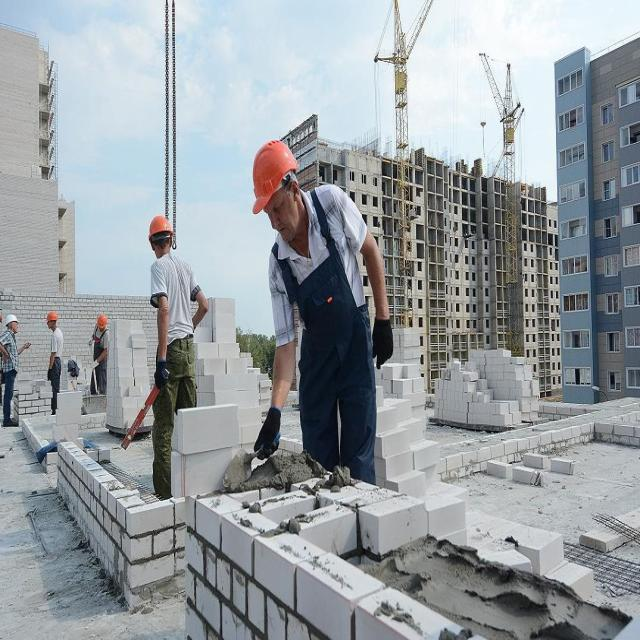Helmet: (254, 139, 301, 216), (148, 215, 176, 242), (7, 314, 22, 329), (96, 315, 108, 333), (46, 312, 60, 326)
NoJacket: (293, 199, 356, 384), (160, 249, 194, 375), (50, 329, 64, 372), (95, 334, 109, 376), (6, 335, 21, 374)
